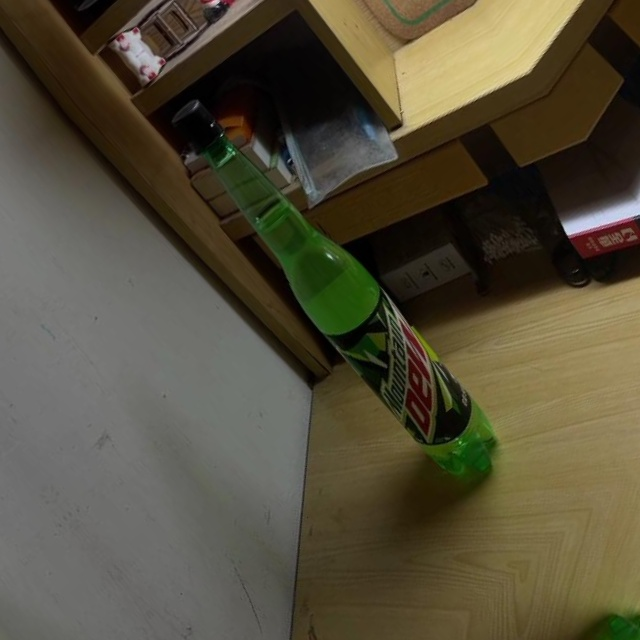Mountain-Dew: (153, 83, 521, 501)
